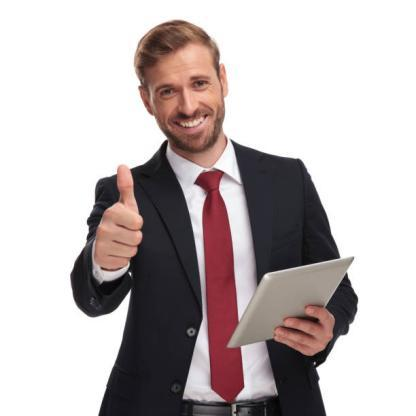thumb_up: (92, 160, 146, 272)
